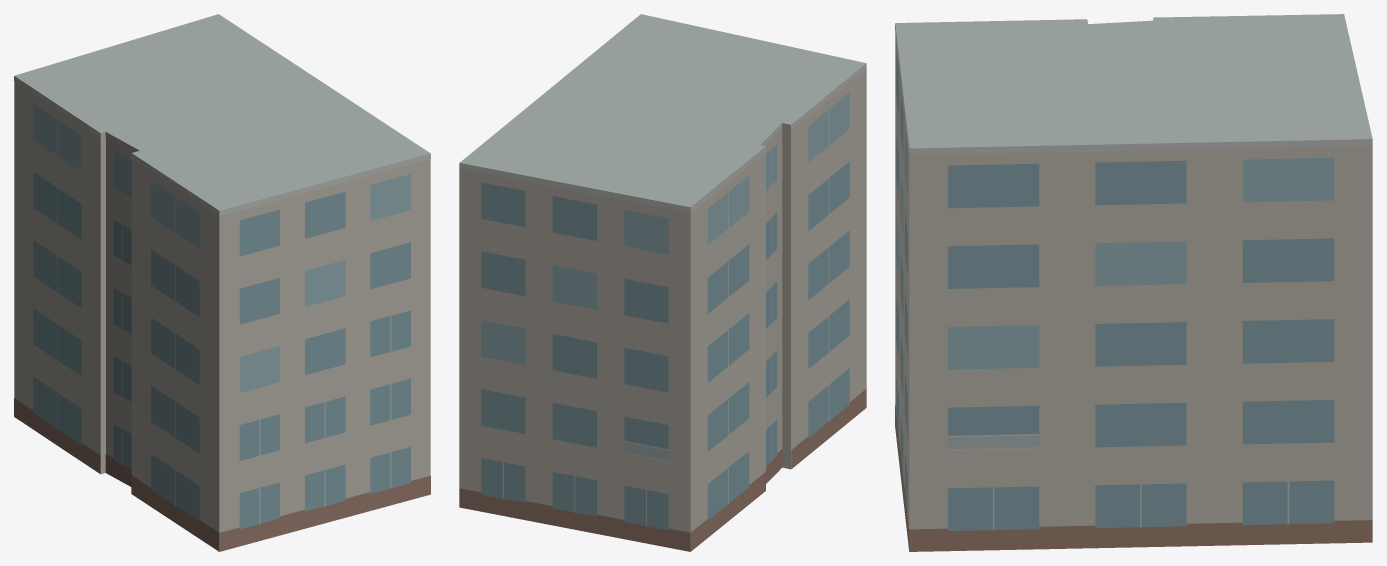
Rendered from survey-upis-32725228.glb.
3 views of the same model, side by side, from view 1: azimuth 30°, elevation 25°; view 2: azimuth 150°, elevation 25°; view 3: azimuth 270°, elevation 25° (orthographic). The views are drawn at different scales.
Visible parts, largest first — view 1: survey-upis-32725228.tmp; view 2: survey-upis-32725228.tmp; view 3: survey-upis-32725228.tmp.
Boxes of the visible parts, x1=… form: survey-upis-32725228.tmp: x1=14, y1=14, x2=430, y2=551; survey-upis-32725228.tmp: x1=459, y1=14, x2=866, y2=551; survey-upis-32725228.tmp: x1=895, y1=14, x2=1372, y2=551.
Size of the model in its own units: 10.59 by 14.8 by 15.89.
